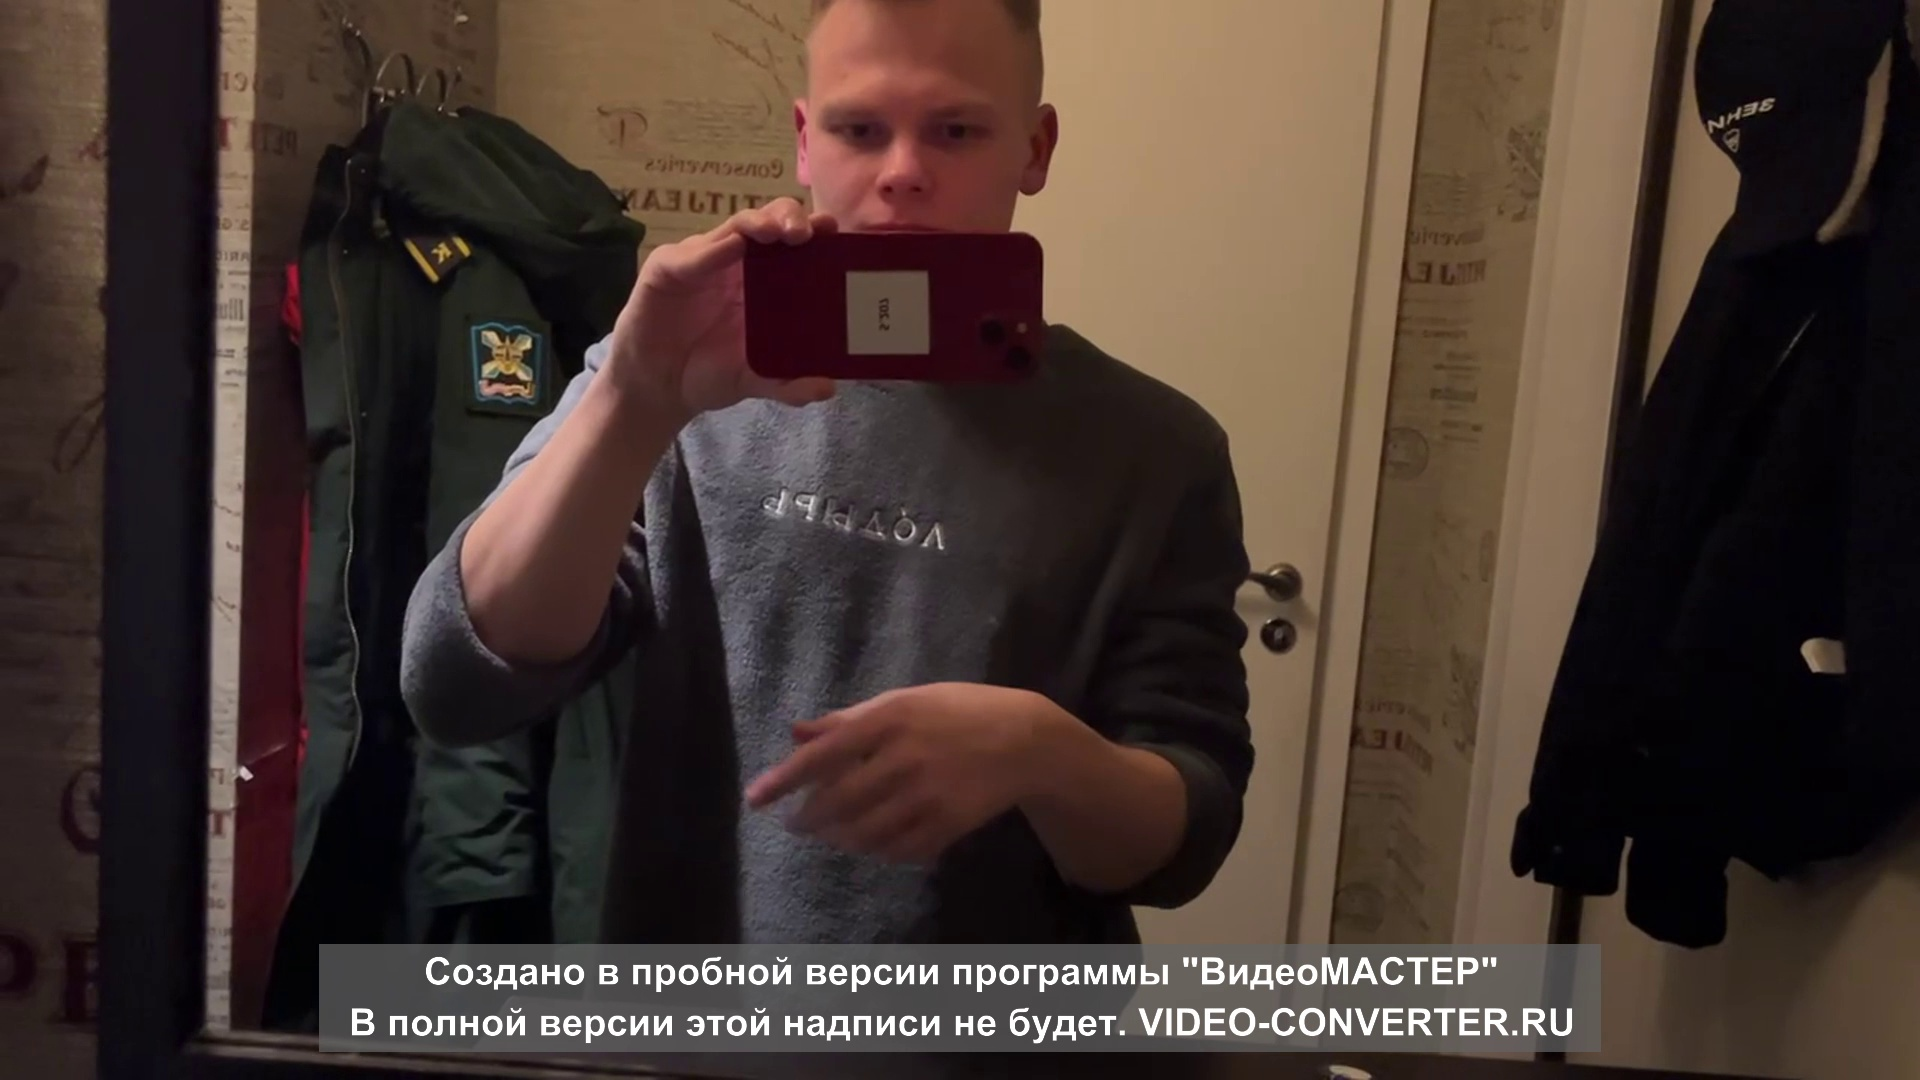Кисть: (748, 684, 1034, 869)
